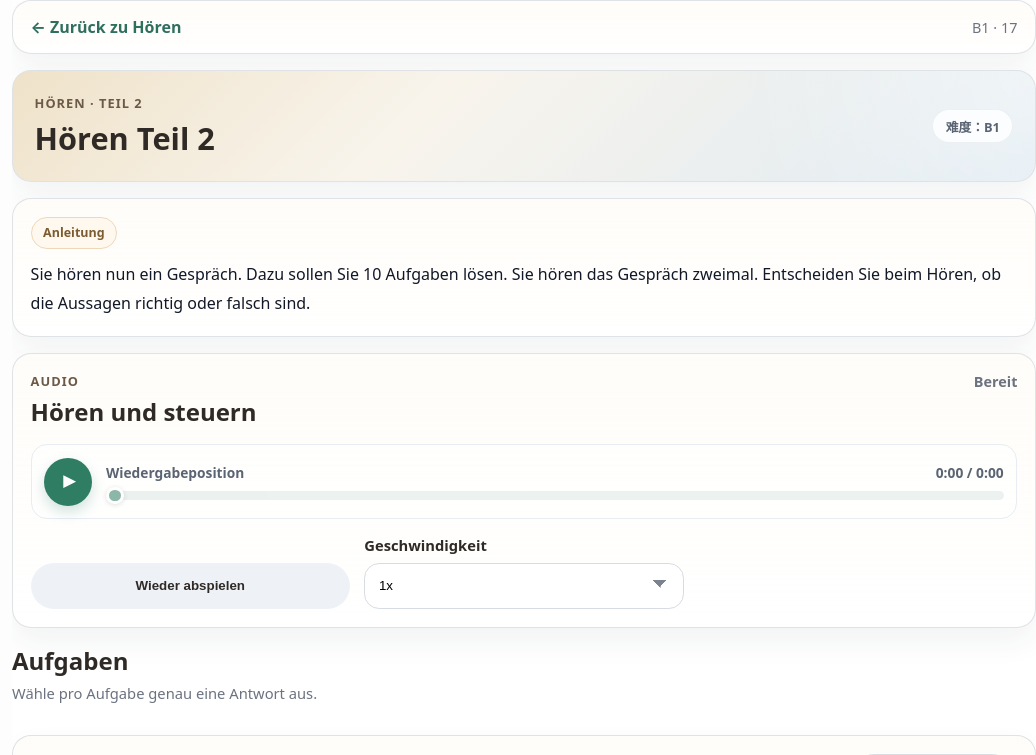
Test: listening exercise audio loading › reloads a failed stream once before waiting for the backup Blob
What coordinates should you click on to do the following:
click the button named "Audio abspielen"
I would click on:
 (68, 482)
Its box is [44,458,92,506].
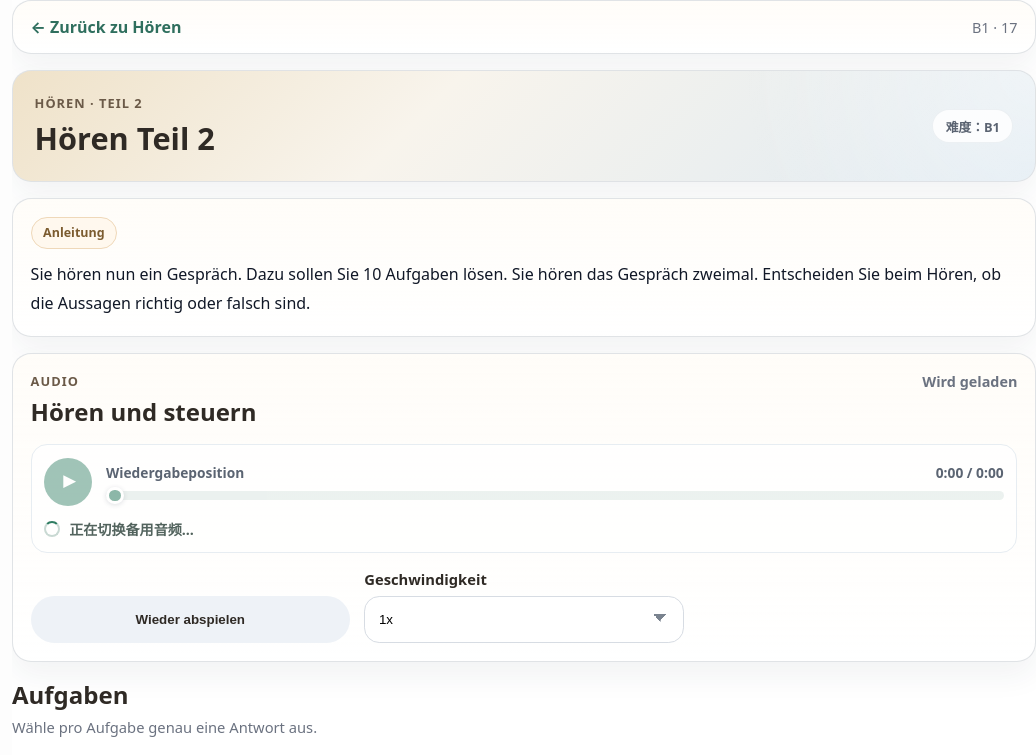
Expected: the text "正在切换备用音频…" is shown, [44,520,194,539]
